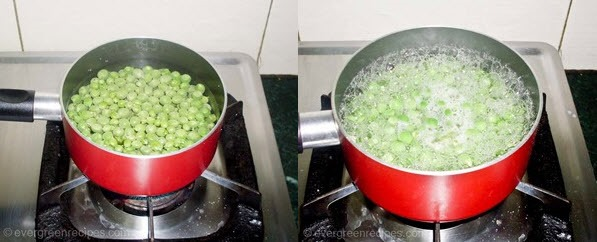boiled peas: (331, 42, 537, 172), (68, 66, 226, 163)
